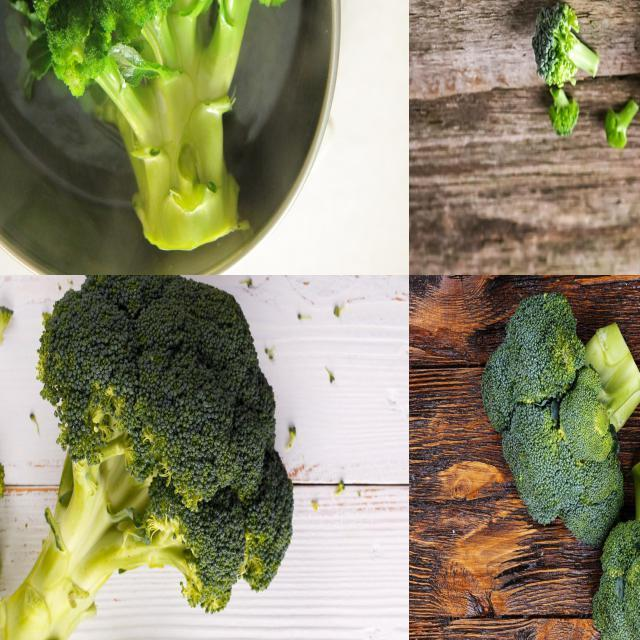broccoli: (0, 275, 301, 639), (29, 0, 291, 255), (478, 287, 639, 550), (528, 0, 600, 88)
